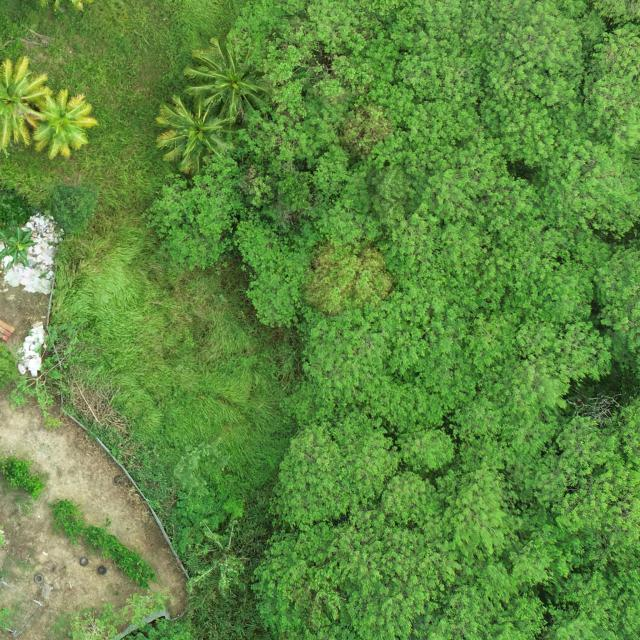Tree: (378, 166, 600, 386), (250, 510, 552, 640), (278, 284, 478, 435), (522, 391, 640, 553), (224, 0, 360, 124), (265, 411, 401, 532), (450, 352, 572, 473), (139, 148, 245, 272), (232, 216, 330, 328), (434, 463, 523, 568), (182, 36, 273, 127), (301, 242, 397, 317), (515, 314, 615, 383), (154, 94, 238, 174), (0, 55, 54, 151), (31, 88, 101, 160), (380, 471, 437, 527), (394, 426, 457, 473)
